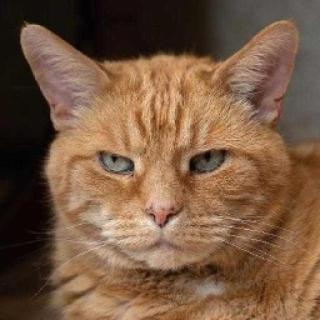cat: (23, 14, 310, 273)
nose: (137, 186, 189, 235)
